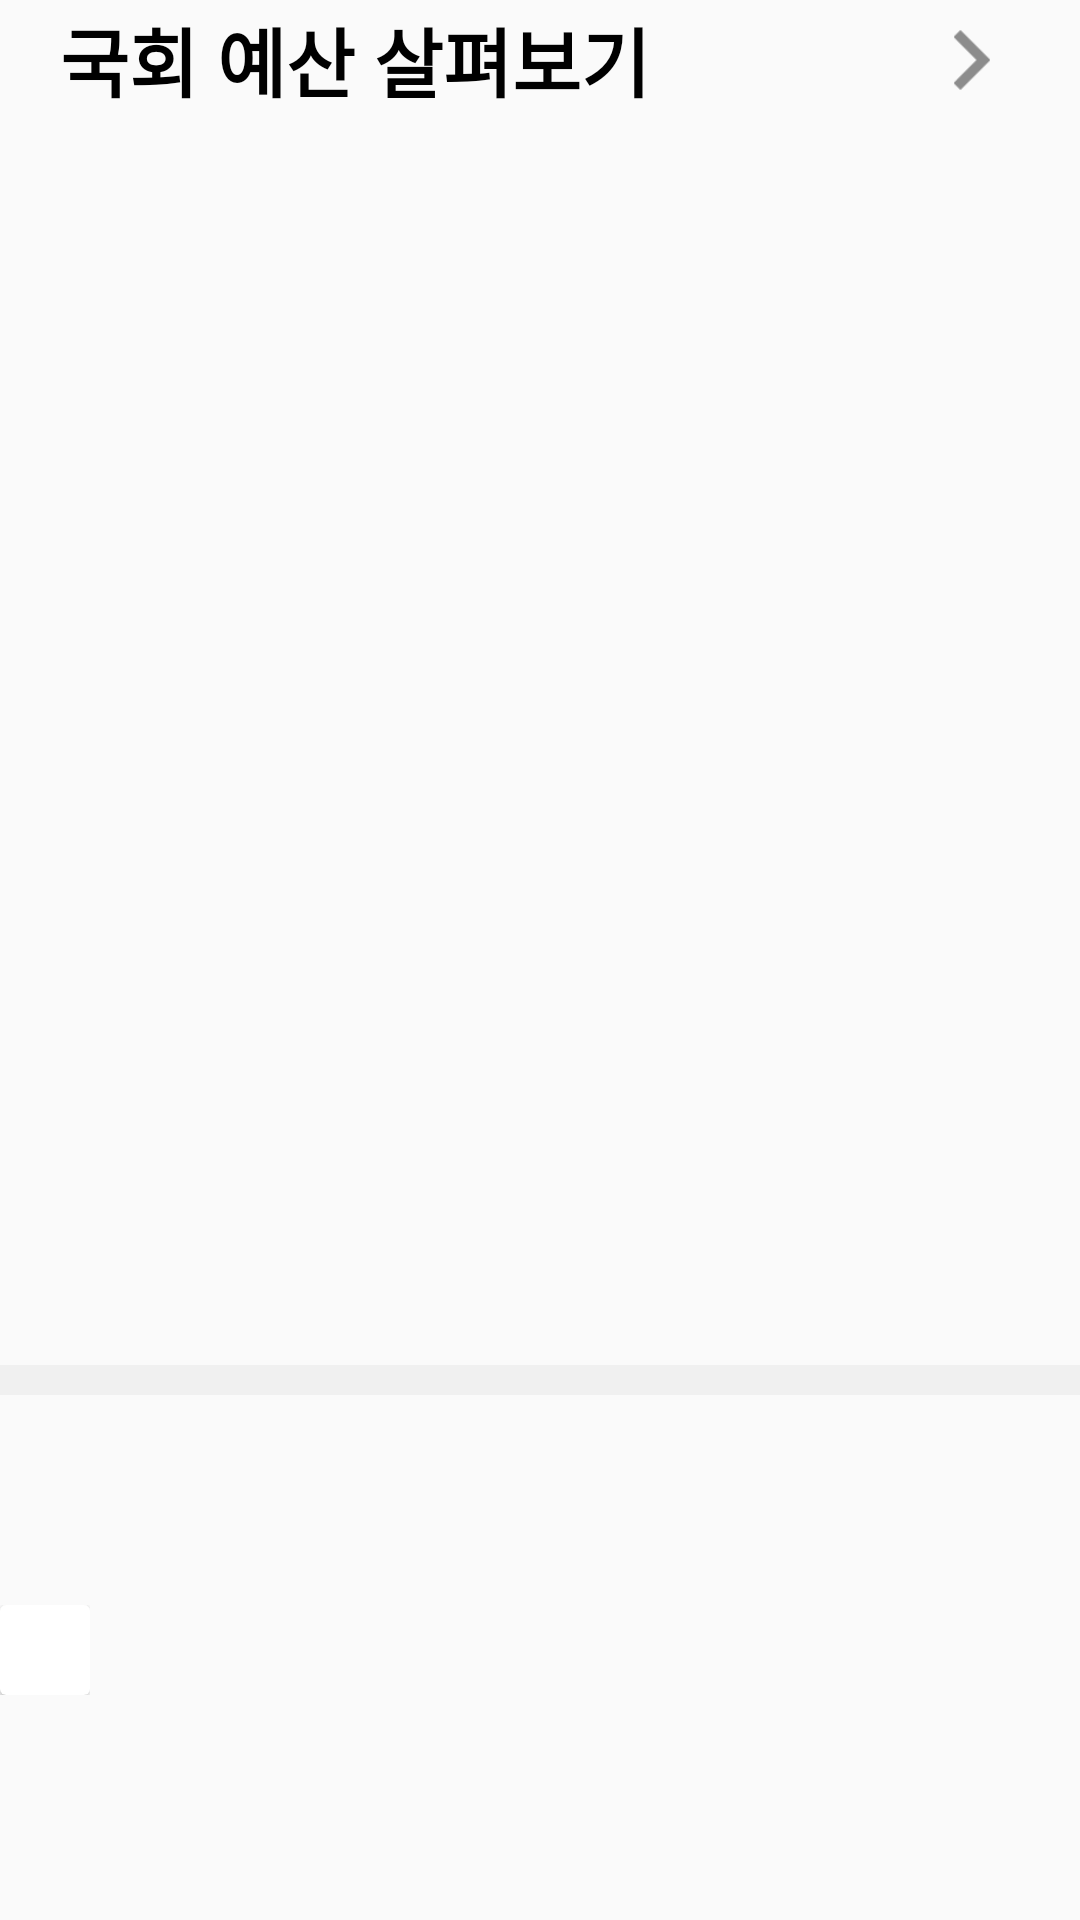

Icon bounding boxes for this 1080 x 1920 phone screenshot, format (x1, y1, x2, y2):
into: (954, 30, 990, 90)
